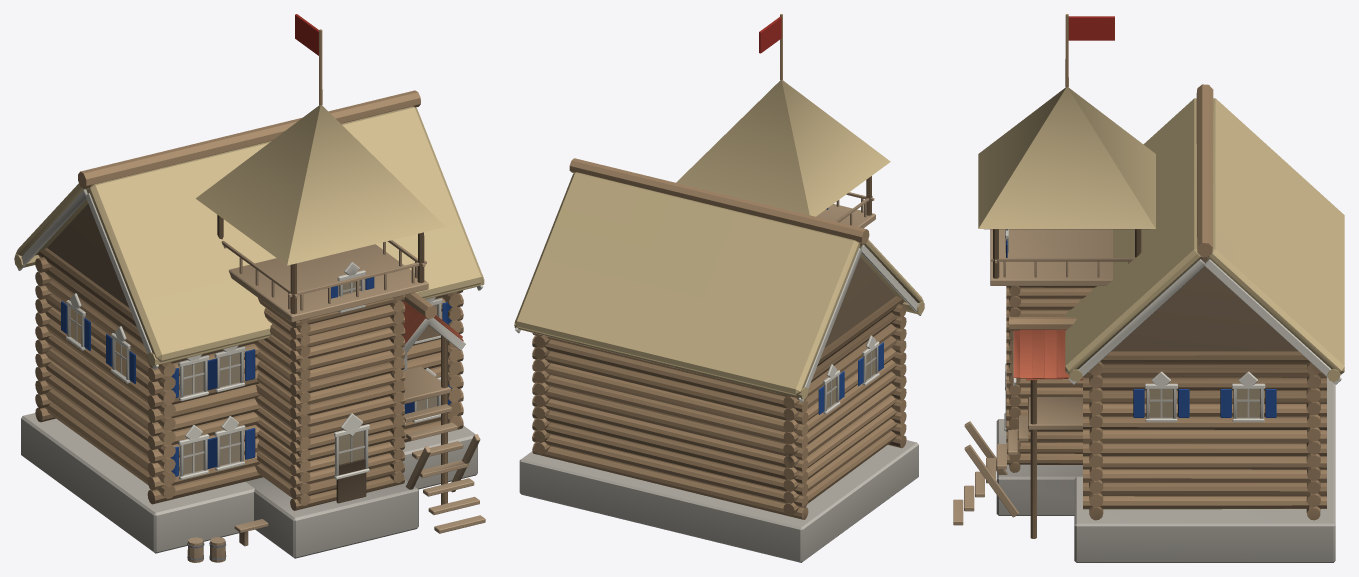
File: bld_townhall.glb
3 views of the same model, side by side, from view 1: azimuth 30°, elevation 25°; view 2: azimuth 150°, elevation 25°; view 3: azimuth 270°, elevation 25° (orthographic). The views are drawn at different scales.
Parts seen in each view (by area): view 1: townhall; view 2: townhall; view 3: townhall.
Boxes of the visible parts, x1=… form: townhall: x1=14, y1=14, x2=485, y2=562; townhall: x1=514, y1=14, x2=924, y2=562; townhall: x1=953, y1=14, x2=1344, y2=562.
Size of the model in its own units: 2.58 by 3.59 by 2.7.
